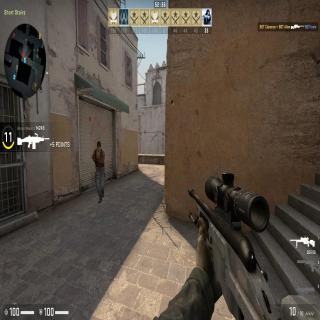T-Body: (92, 140, 106, 203)
T-Head: (96, 141, 102, 151)
